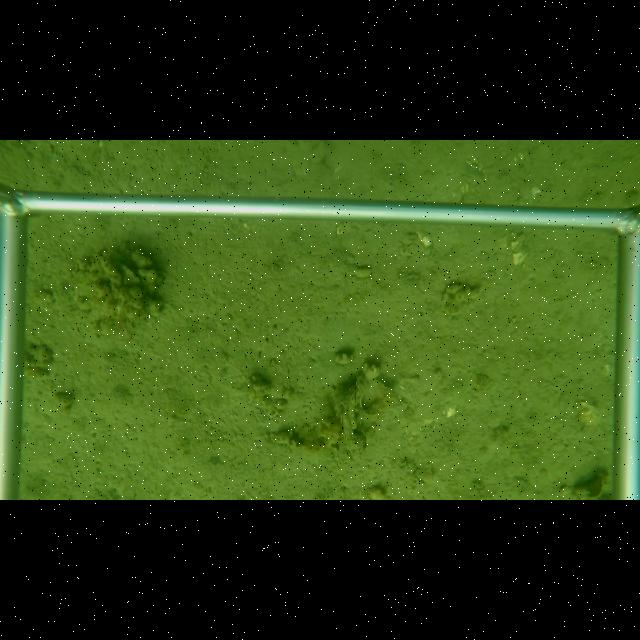Oyster-Closed: (338, 412, 354, 442)
